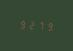nine: (18, 18, 26, 30), (45, 20, 53, 32)
seven: (36, 20, 44, 31)
two: (27, 19, 35, 30)
